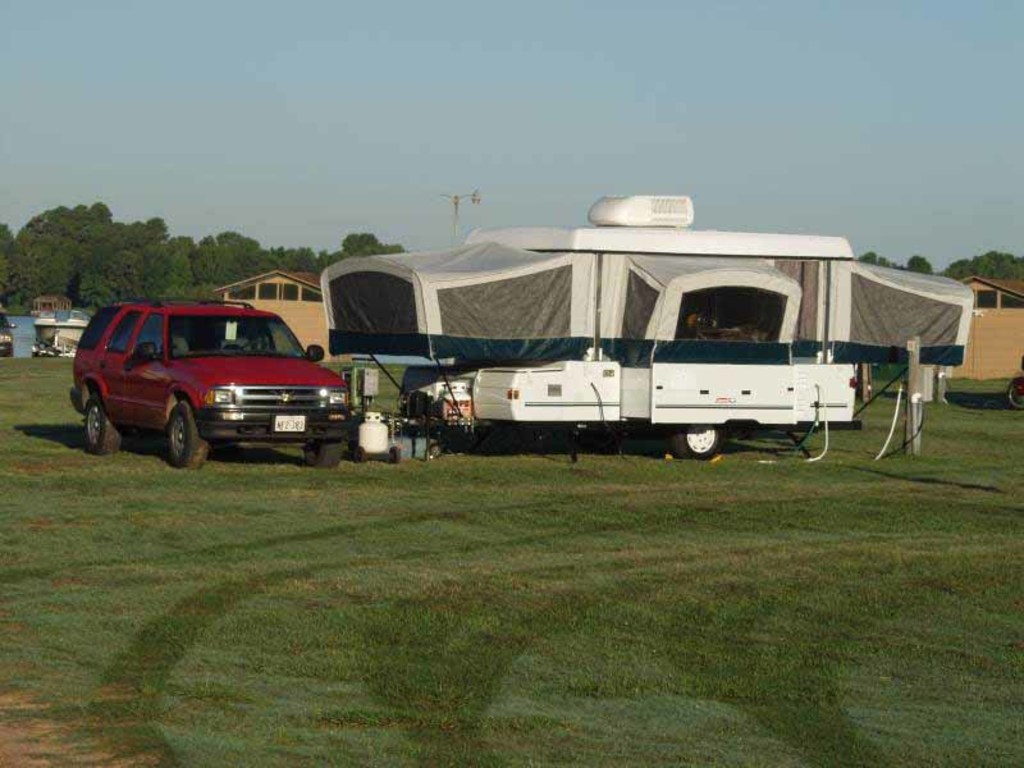Car: (75, 294, 357, 464), (0, 308, 19, 358)
